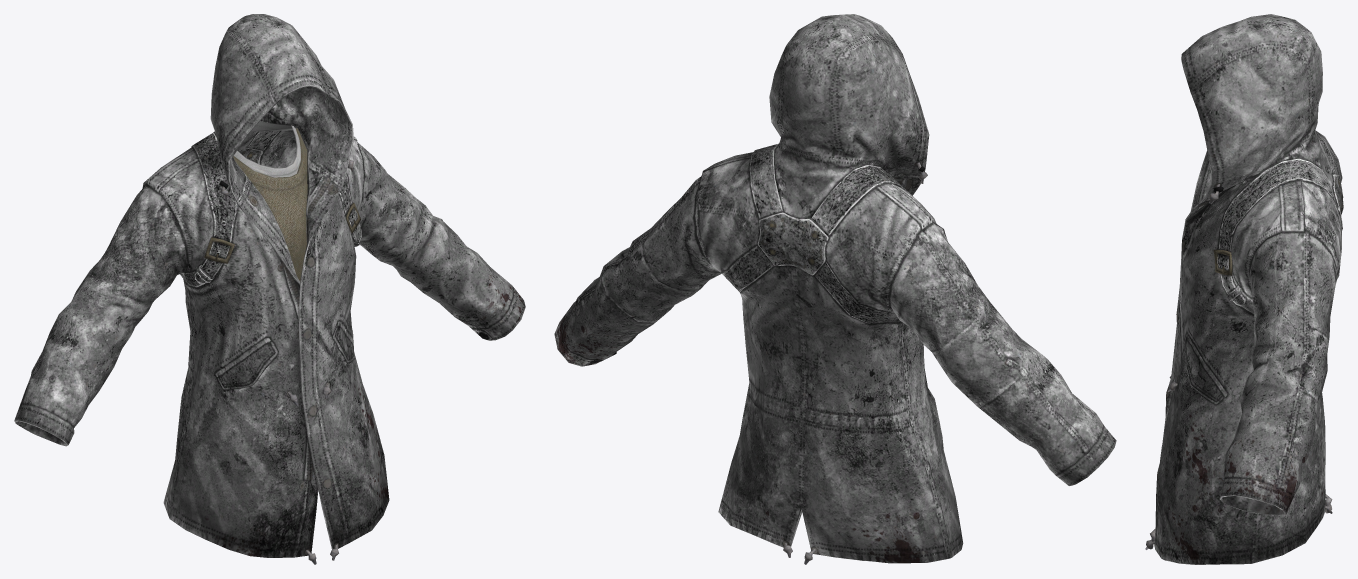
The model's file is SurvivorMale_Chest_Parka_M65_LOD0.glb.
3 renders of one model, left to right at view 1: azimuth 30°, elevation 25°; view 2: azimuth 150°, elevation 25°; view 3: azimuth 270°, elevation 25°, orthographic. The views are drawn at different scales.
Visible parts, largest first — view 1: Hoodie; view 2: Hoodie; view 3: Hoodie.
Boxes of the visible parts, <box> form: Hoodie: <box>14,14,525,564</box>; Hoodie: <box>554,14,1116,564</box>; Hoodie: <box>1145,14,1343,564</box>.
Bounding box in the file's own units: 1.2 × 1.16 × 0.3943.
Materials: 1 (1 with a texture image).
